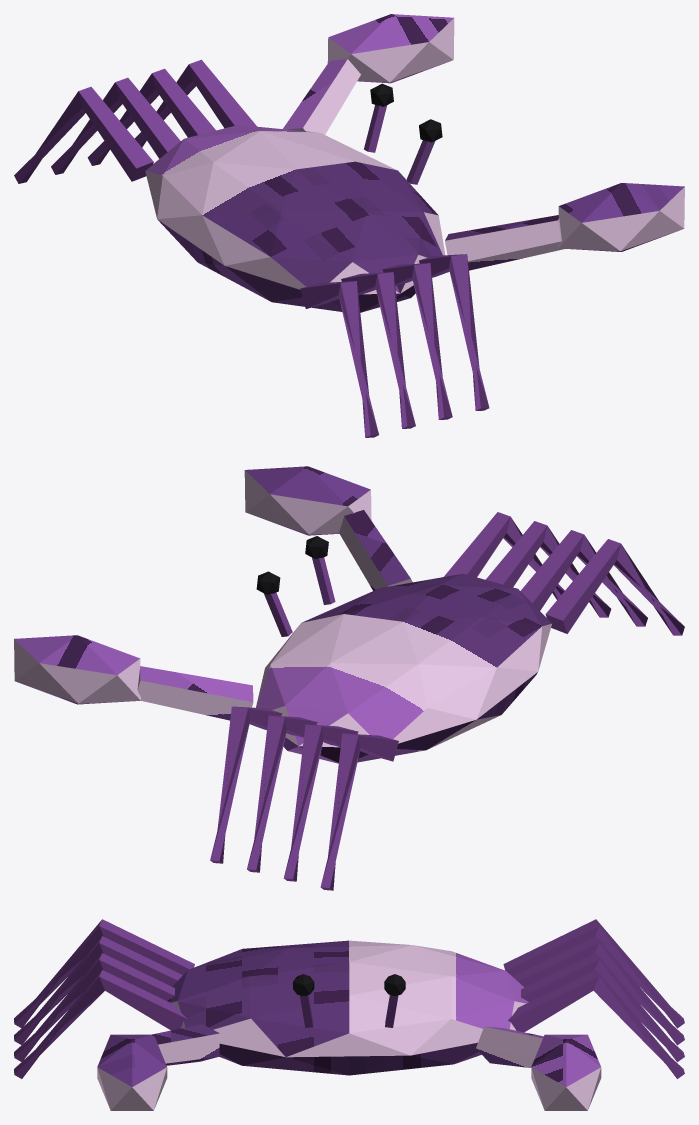
The model's file is coconut_crab.glb.
The picture shows the model from 3 angles, top to bottom: view 1: azimuth 30°, elevation 25°; view 2: azimuth 150°, elevation 25°; view 3: azimuth 270°, elevation 25°; orthographic projection. The views are drawn at different scales.
Parts seen in each view (by area): view 1: fish_coconut_crab; view 2: fish_coconut_crab; view 3: fish_coconut_crab.
Boxes of the visible parts, <box> form: fish_coconut_crab: <box>14,14,684,437</box>; fish_coconut_crab: <box>14,466,684,890</box>; fish_coconut_crab: <box>14,919,684,1110</box>.
Size of the model in its own units: 0.7228 by 0.2887 by 1.17.
3 materials, 1 textured.
